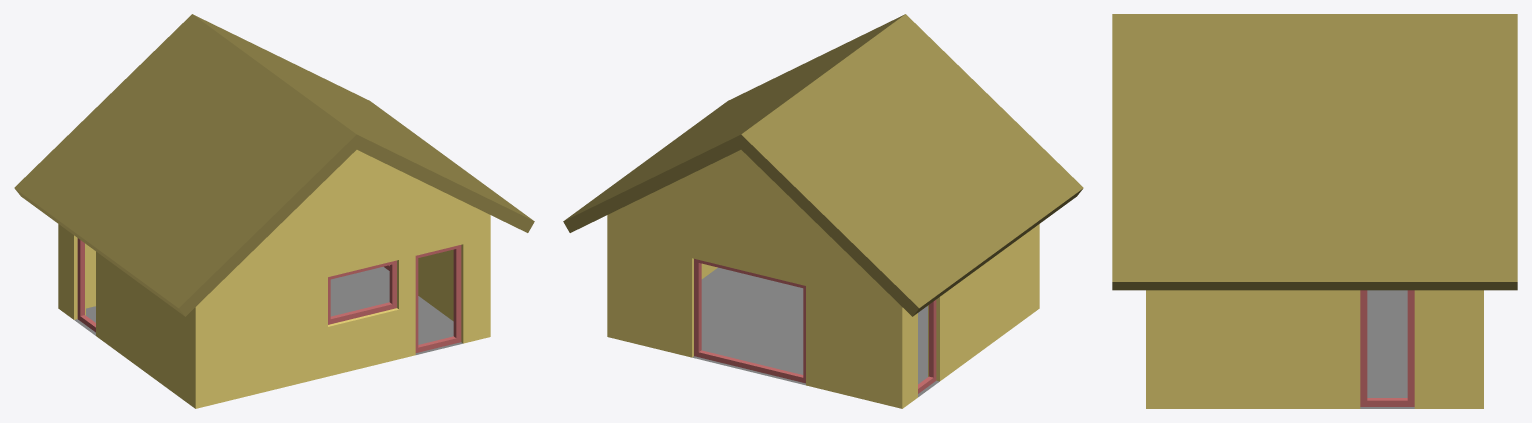
File: result.glb
3 views of the same model, side by side, from view 1: azimuth 30°, elevation 25°; view 2: azimuth 150°, elevation 25°; view 3: azimuth 270°, elevation 25° (orthographic). The views are drawn at different scales.
Visible parts, largest first — view 1: 02be1a97-56ed-4bf5-a948-17b98e50b0b4__undefined (×2), 71140cd4-f90c-47e0-95d3-3b16cb24d023__undefined, af581afa-cd43-445a-b444-73a8d60a2d7e__Plane_6, 5029c7e1-a961-44b3-be22-8d4f5cff3b65__Box, 61613f90-bb80-4bc7-b9fb-57167cbf948c__Box_3, 98541b90-bf87-433a-96b7-a595762ef4b9__Box_12; view 2: 02be1a97-56ed-4bf5-a948-17b98e50b0b4__undefined (×2), 71140cd4-f90c-47e0-95d3-3b16cb24d023__undefined, af581afa-cd43-445a-b444-73a8d60a2d7e__Plane_6, 0b30a962-310e-4828-8b4c-1cd324e603ed__Box_9, 98541b90-bf87-433a-96b7-a595762ef4b9__Box_12; view 3: 02be1a97-56ed-4bf5-a948-17b98e50b0b4__undefined, 71140cd4-f90c-47e0-95d3-3b16cb24d023__undefined, af581afa-cd43-445a-b444-73a8d60a2d7e__Plane_6, 8198d86a-7b7d-4563-acdd-9cc751ca7527__Box_15.
Boxes of the visible parts, x1,y1,x2,y2 form: 02be1a97-56ed-4bf5-a948-17b98e50b0b4__undefined (×2): (14, 14, 534, 316); 71140cd4-f90c-47e0-95d3-3b16cb24d023__undefined: (58, 150, 490, 408); af581afa-cd43-445a-b444-73a8d60a2d7e__Plane_6: (74, 266, 462, 354); 5029c7e1-a961-44b3-be22-8d4f5cff3b65__Box: (415, 245, 461, 352); 61613f90-bb80-4bc7-b9fb-57167cbf948c__Box_3: (328, 260, 396, 324); 98541b90-bf87-433a-96b7-a595762ef4b9__Box_12: (77, 238, 95, 332); 02be1a97-56ed-4bf5-a948-17b98e50b0b4__undefined (×2): (563, 14, 1083, 316); 71140cd4-f90c-47e0-95d3-3b16cb24d023__undefined: (607, 150, 1039, 408); af581afa-cd43-445a-b444-73a8d60a2d7e__Plane_6: (692, 267, 939, 397); 0b30a962-310e-4828-8b4c-1cd324e603ed__Box_9: (694, 258, 805, 383); 98541b90-bf87-433a-96b7-a595762ef4b9__Box_12: (918, 300, 936, 393); 02be1a97-56ed-4bf5-a948-17b98e50b0b4__undefined: (1112, 14, 1517, 290); 71140cd4-f90c-47e0-95d3-3b16cb24d023__undefined: (1146, 290, 1483, 408); af581afa-cd43-445a-b444-73a8d60a2d7e__Plane_6: (1360, 290, 1414, 408); 8198d86a-7b7d-4563-acdd-9cc751ca7527__Box_15: (1360, 290, 1414, 406).
Bounding box in the file's own units: 750 × 500 × 600.
